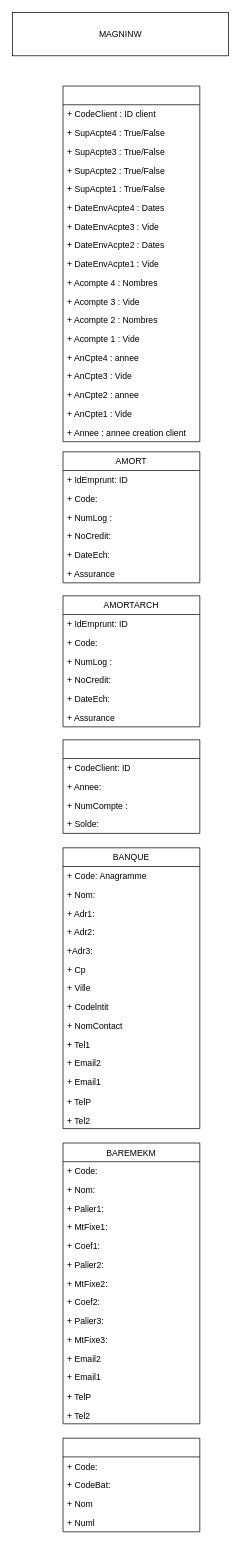
This 241x1547 diagram has some shape labels left out. Here are the shapes that lost their labels. From the top down, the box of each, then its label:
(62, 85, 200, 442): ACOMPTE TVA
(62, 739, 200, 833): ASYNTHESE
(62, 1437, 200, 1532): BATIMENT
